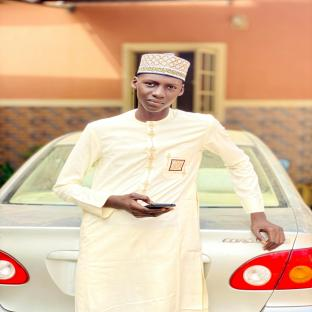Human: (53, 53, 284, 312)
